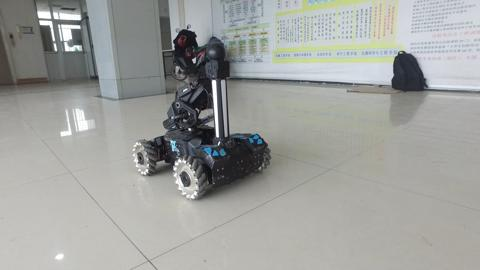bag: (387, 48, 432, 93)
chariot: (127, 41, 280, 202)
